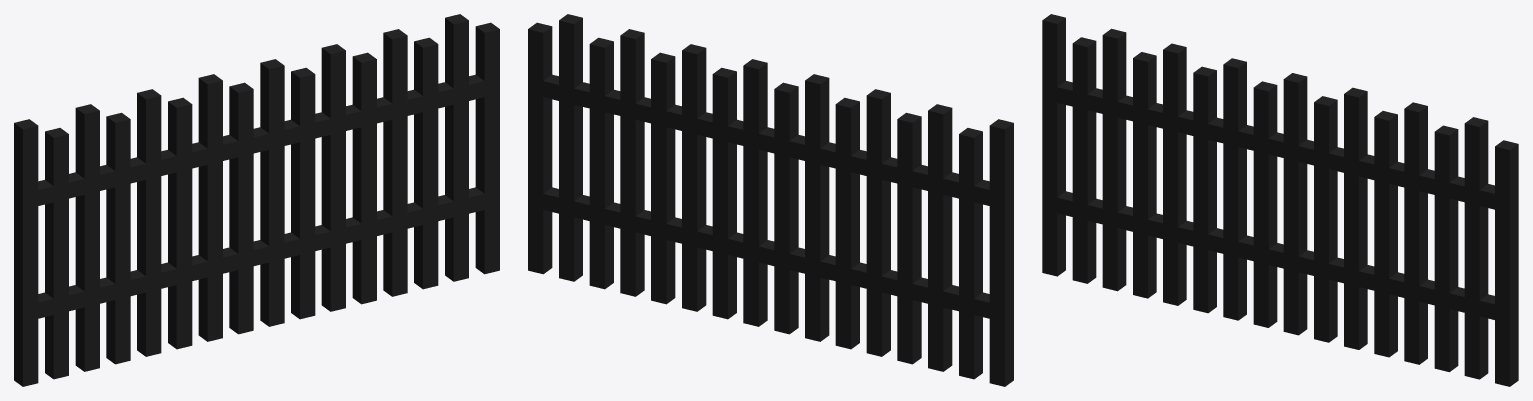
Rendered from Fences-3-FenceBlack1.obj.
3 renders of one model, left to right at view 1: azimuth 30°, elevation 25°; view 2: azimuth 150°, elevation 25°; view 3: azimuth 330°, elevation 25°, orthographic. The views are drawn at different scales.
Parts seen in each view (by area): view 1: FenceBlack1; view 2: FenceBlack1; view 3: FenceBlack1.
Boxes of the visible parts, <box> form: FenceBlack1: <box>14,14,499,386</box>; FenceBlack1: <box>528,14,1013,386</box>; FenceBlack1: <box>1042,14,1518,386</box>.
Size of the model in its own units: 3.1 by 1.6 by 0.1.
Materials: 1 (1 with a texture image).
